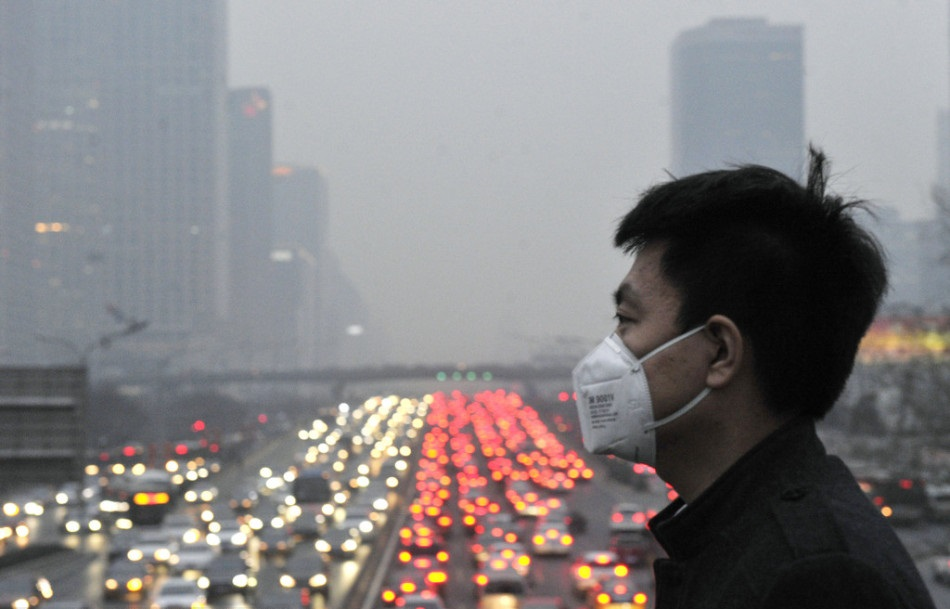face_mask: (599, 239, 713, 454)
